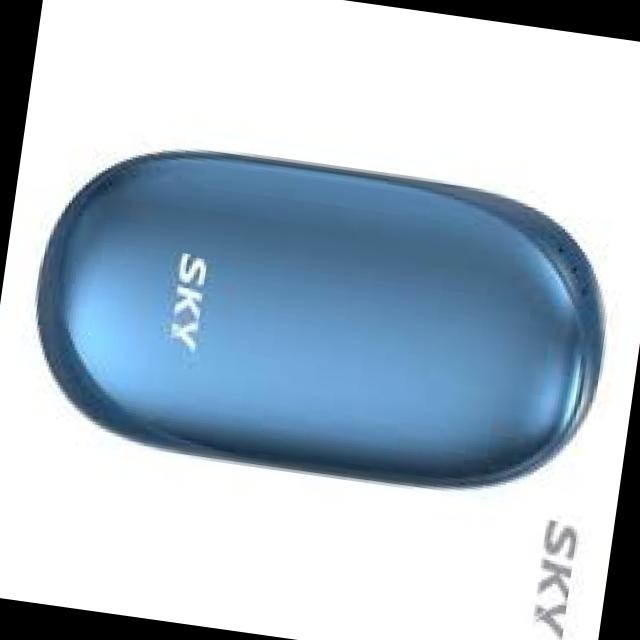portable-charger: (19, 130, 625, 514)
